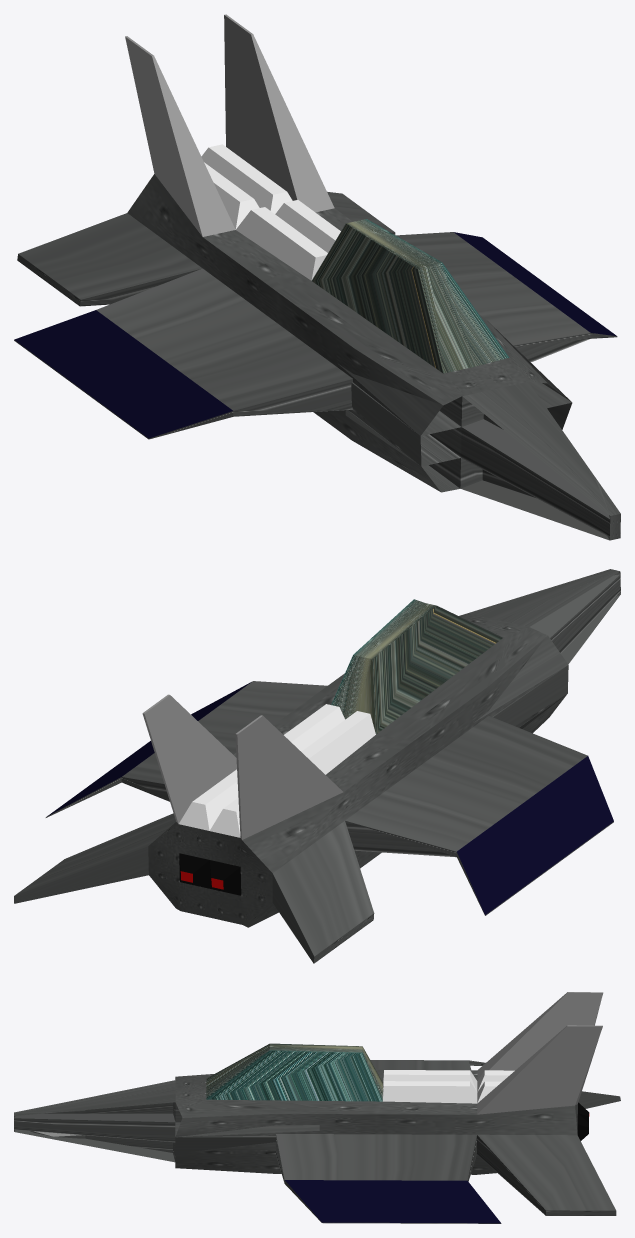
File: uuucccaaakkk.fbx
3 views of the same model, one above another, from view 1: azimuth 30°, elevation 25°; view 2: azimuth 150°, elevation 25°; view 3: azimuth 270°, elevation 25° (orthographic). The views are drawn at different scales.
Visible parts, largest first — view 1: Box001; view 2: Box001; view 3: Box001.
Part boxes in pixels (x1,y1,x2,y2): Box001: (14,14,620,540); Box001: (14,569,620,963); Box001: (14,992,620,1223).
Bounding box in the file's own units: 107 × 49.64 × 181.
Materials: 8 (2 with a texture image).
